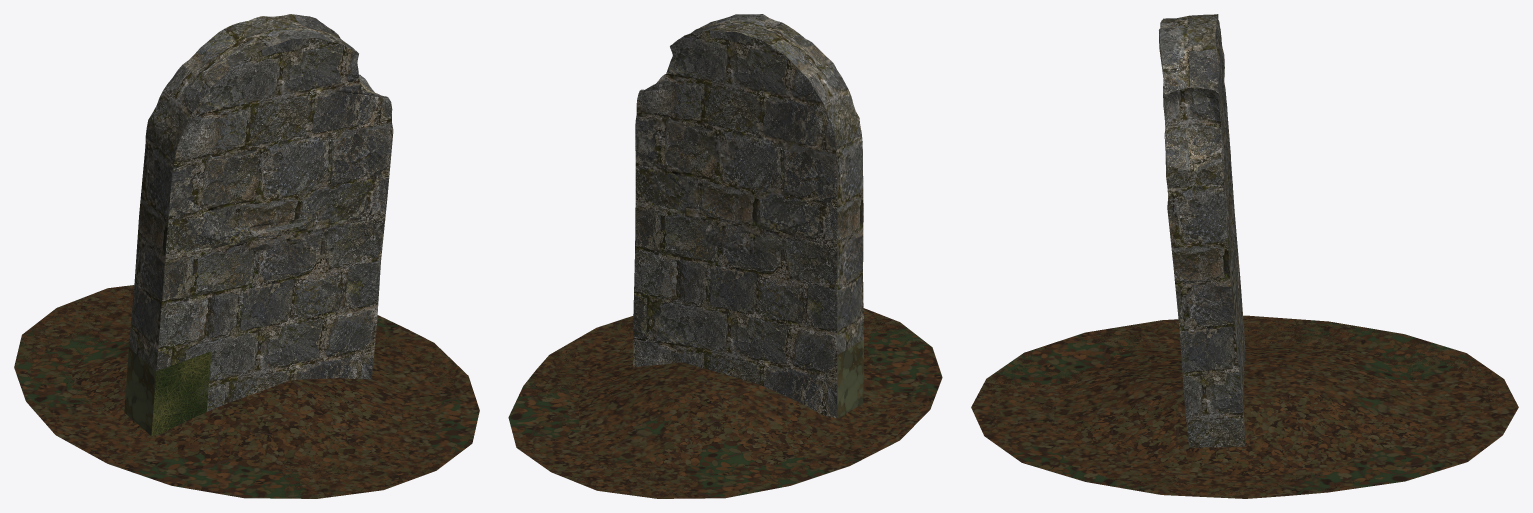
The model's file is grave-marker-v01.glb.
The picture shows the model from 3 angles, left to right: view 1: azimuth 30°, elevation 25°; view 2: azimuth 150°, elevation 25°; view 3: azimuth 270°, elevation 25°; orthographic projection. The views are drawn at different scales.
Parts seen in each view (by area): view 1: grave-marker; view 2: grave-marker; view 3: grave-marker.
Part boxes in pixels (left/top/right/bottom): grave-marker: left=14, top=14, right=479, bottom=498; grave-marker: left=508, top=14, right=942, bottom=498; grave-marker: left=971, top=14, right=1518, bottom=498.
Bounding box in the file's own units: 1.55 × 1.53 × 1.96.
3 materials, 3 textured.
